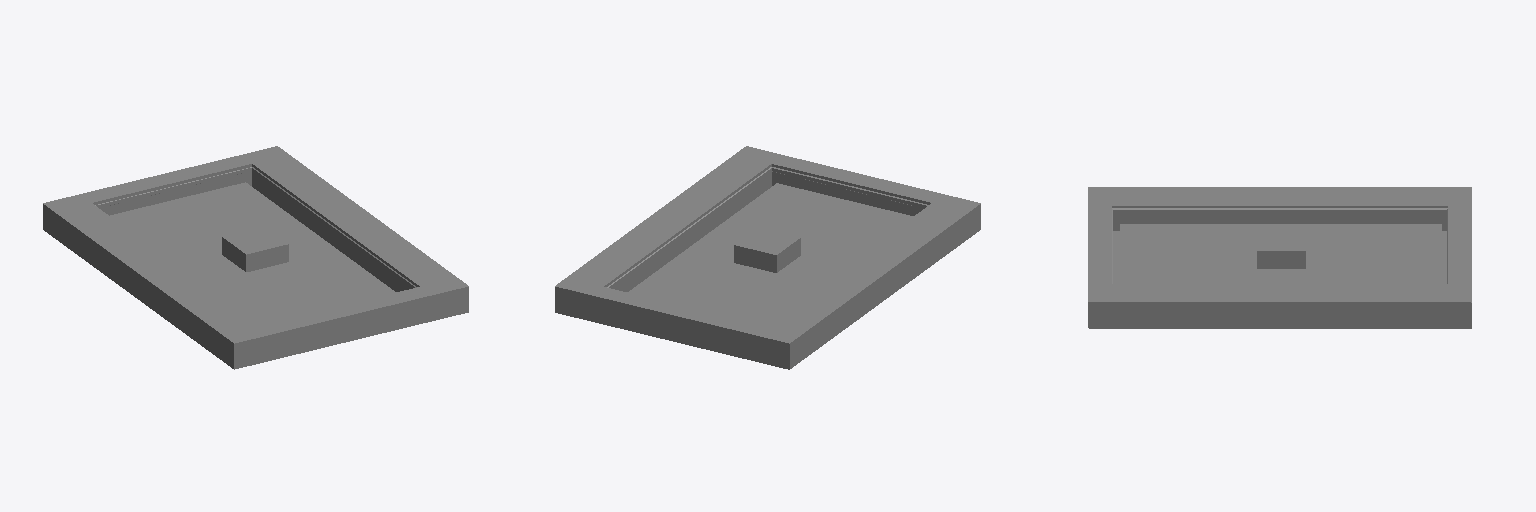
The model's file is noRoomTest.obj.
3 renders of one model, left to right at view 1: azimuth 30°, elevation 25°; view 2: azimuth 150°, elevation 25°; view 3: azimuth 270°, elevation 25°, orthographic.
Parts seen in each view (by area): view 1: collision, nodes, room; view 2: collision, nodes, room; view 3: collision, nodes, room.
Boxes of the visible parts, x1,y1,x2,y2 form: collision: [43, 146, 468, 369]; nodes: [110, 182, 395, 325]; room: [49, 167, 416, 368]; collision: [555, 146, 980, 369]; nodes: [628, 183, 913, 325]; room: [558, 167, 974, 369]; collision: [1088, 187, 1471, 327]; nodes: [1120, 224, 1441, 283]; room: [1089, 208, 1471, 328].
Size of the model in its own units: 54.52 by 6.75 by 77.01.